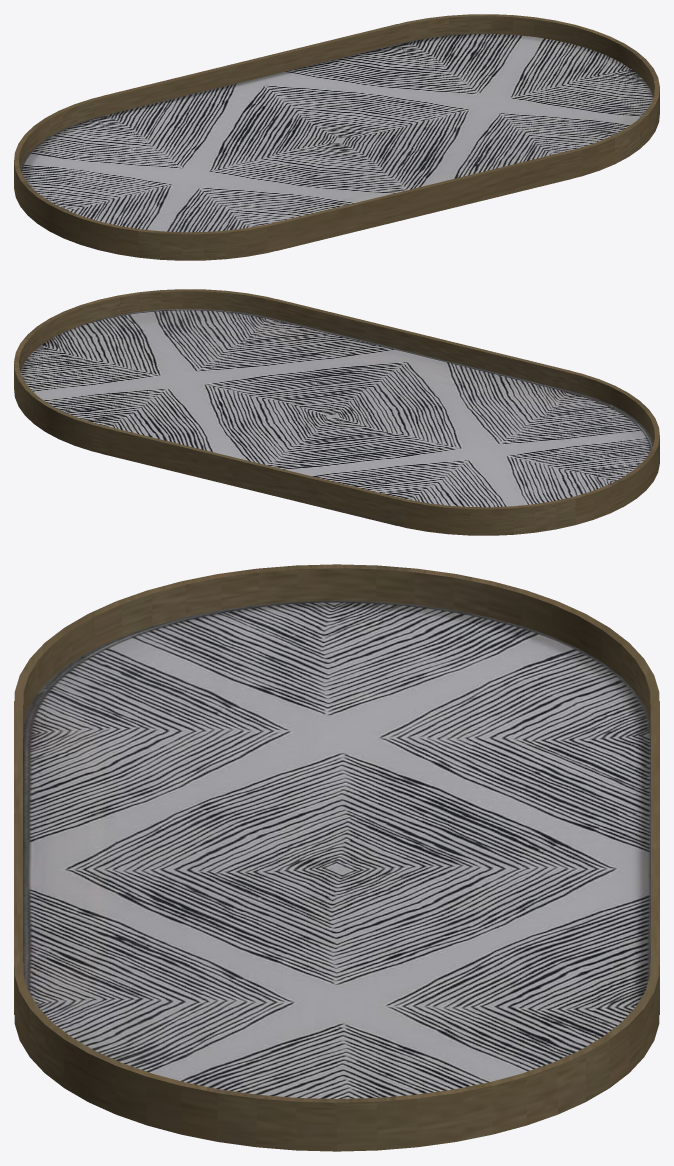
Rendered from Slate_LinearSquaresGlassTray-Medium.glb.
The picture shows the model from 3 angles, top to bottom: view 1: azimuth 30°, elevation 25°; view 2: azimuth 150°, elevation 25°; view 3: azimuth 270°, elevation 25°; orthographic projection. The views are drawn at different scales.
Parts seen in each view (by area): view 1: model 8; view 2: model 8; view 3: model 8.
Boxes of the visible parts, box(x1,y1,x2,y2) form: model 8: box(14, 14, 659, 260); model 8: box(14, 289, 659, 535); model 8: box(14, 564, 659, 1151).
Size of the model in its own units: 0.71 by 0.03 by 0.36.
2 materials, 2 textured.
